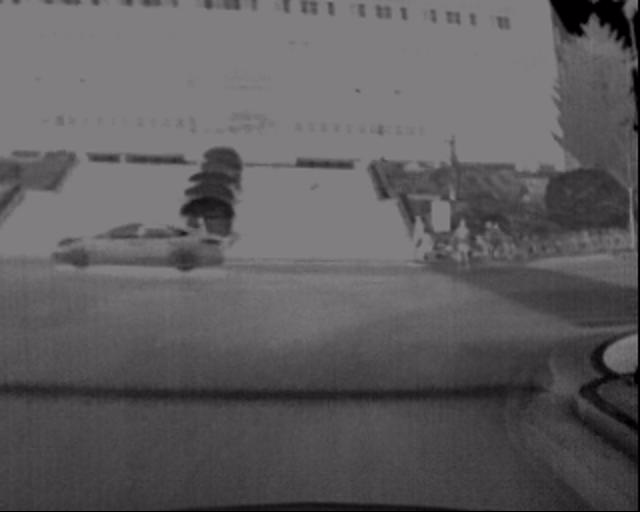person: (302, 163, 332, 212), (180, 214, 203, 267), (447, 212, 468, 265), (154, 217, 178, 262)
